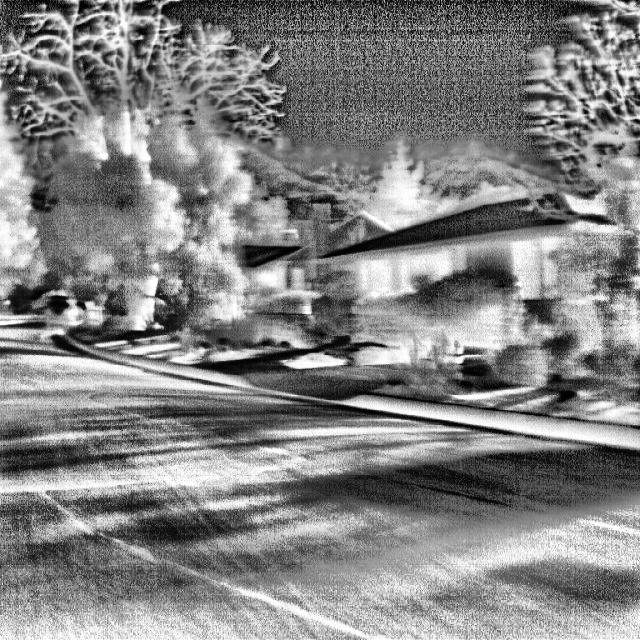car: (36, 284, 94, 351)
